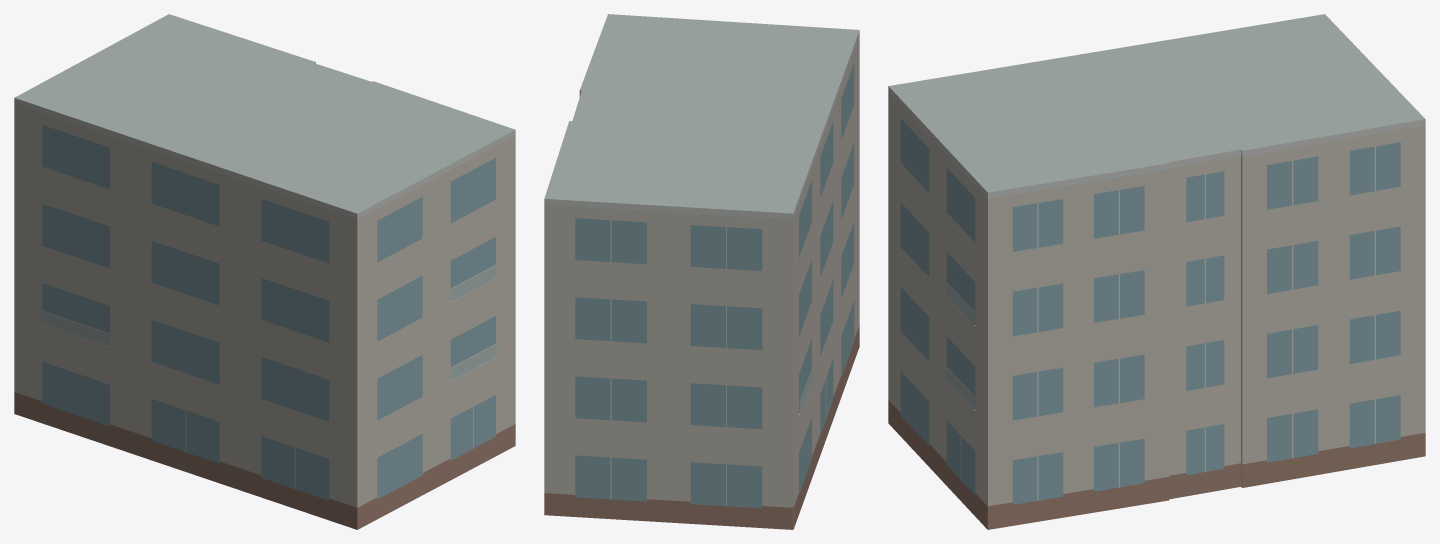
The model's file is survey-upis-32928100.glb.
3 renders of one model, left to right at view 1: azimuth 30°, elevation 25°; view 2: azimuth 150°, elevation 25°; view 3: azimuth 270°, elevation 25°, orthographic. The views are drawn at different scales.
Parts seen in each view (by area): view 1: survey-upis-32928100.tmp; view 2: survey-upis-32928100.tmp; view 3: survey-upis-32928100.tmp.
Boxes of the visible parts, <box> form: survey-upis-32928100.tmp: <box>14,14,515,529</box>; survey-upis-32928100.tmp: <box>544,14,859,529</box>; survey-upis-32928100.tmp: <box>888,14,1425,529</box>.
Size of the model in its own units: 15.01 by 13.2 by 19.06.
